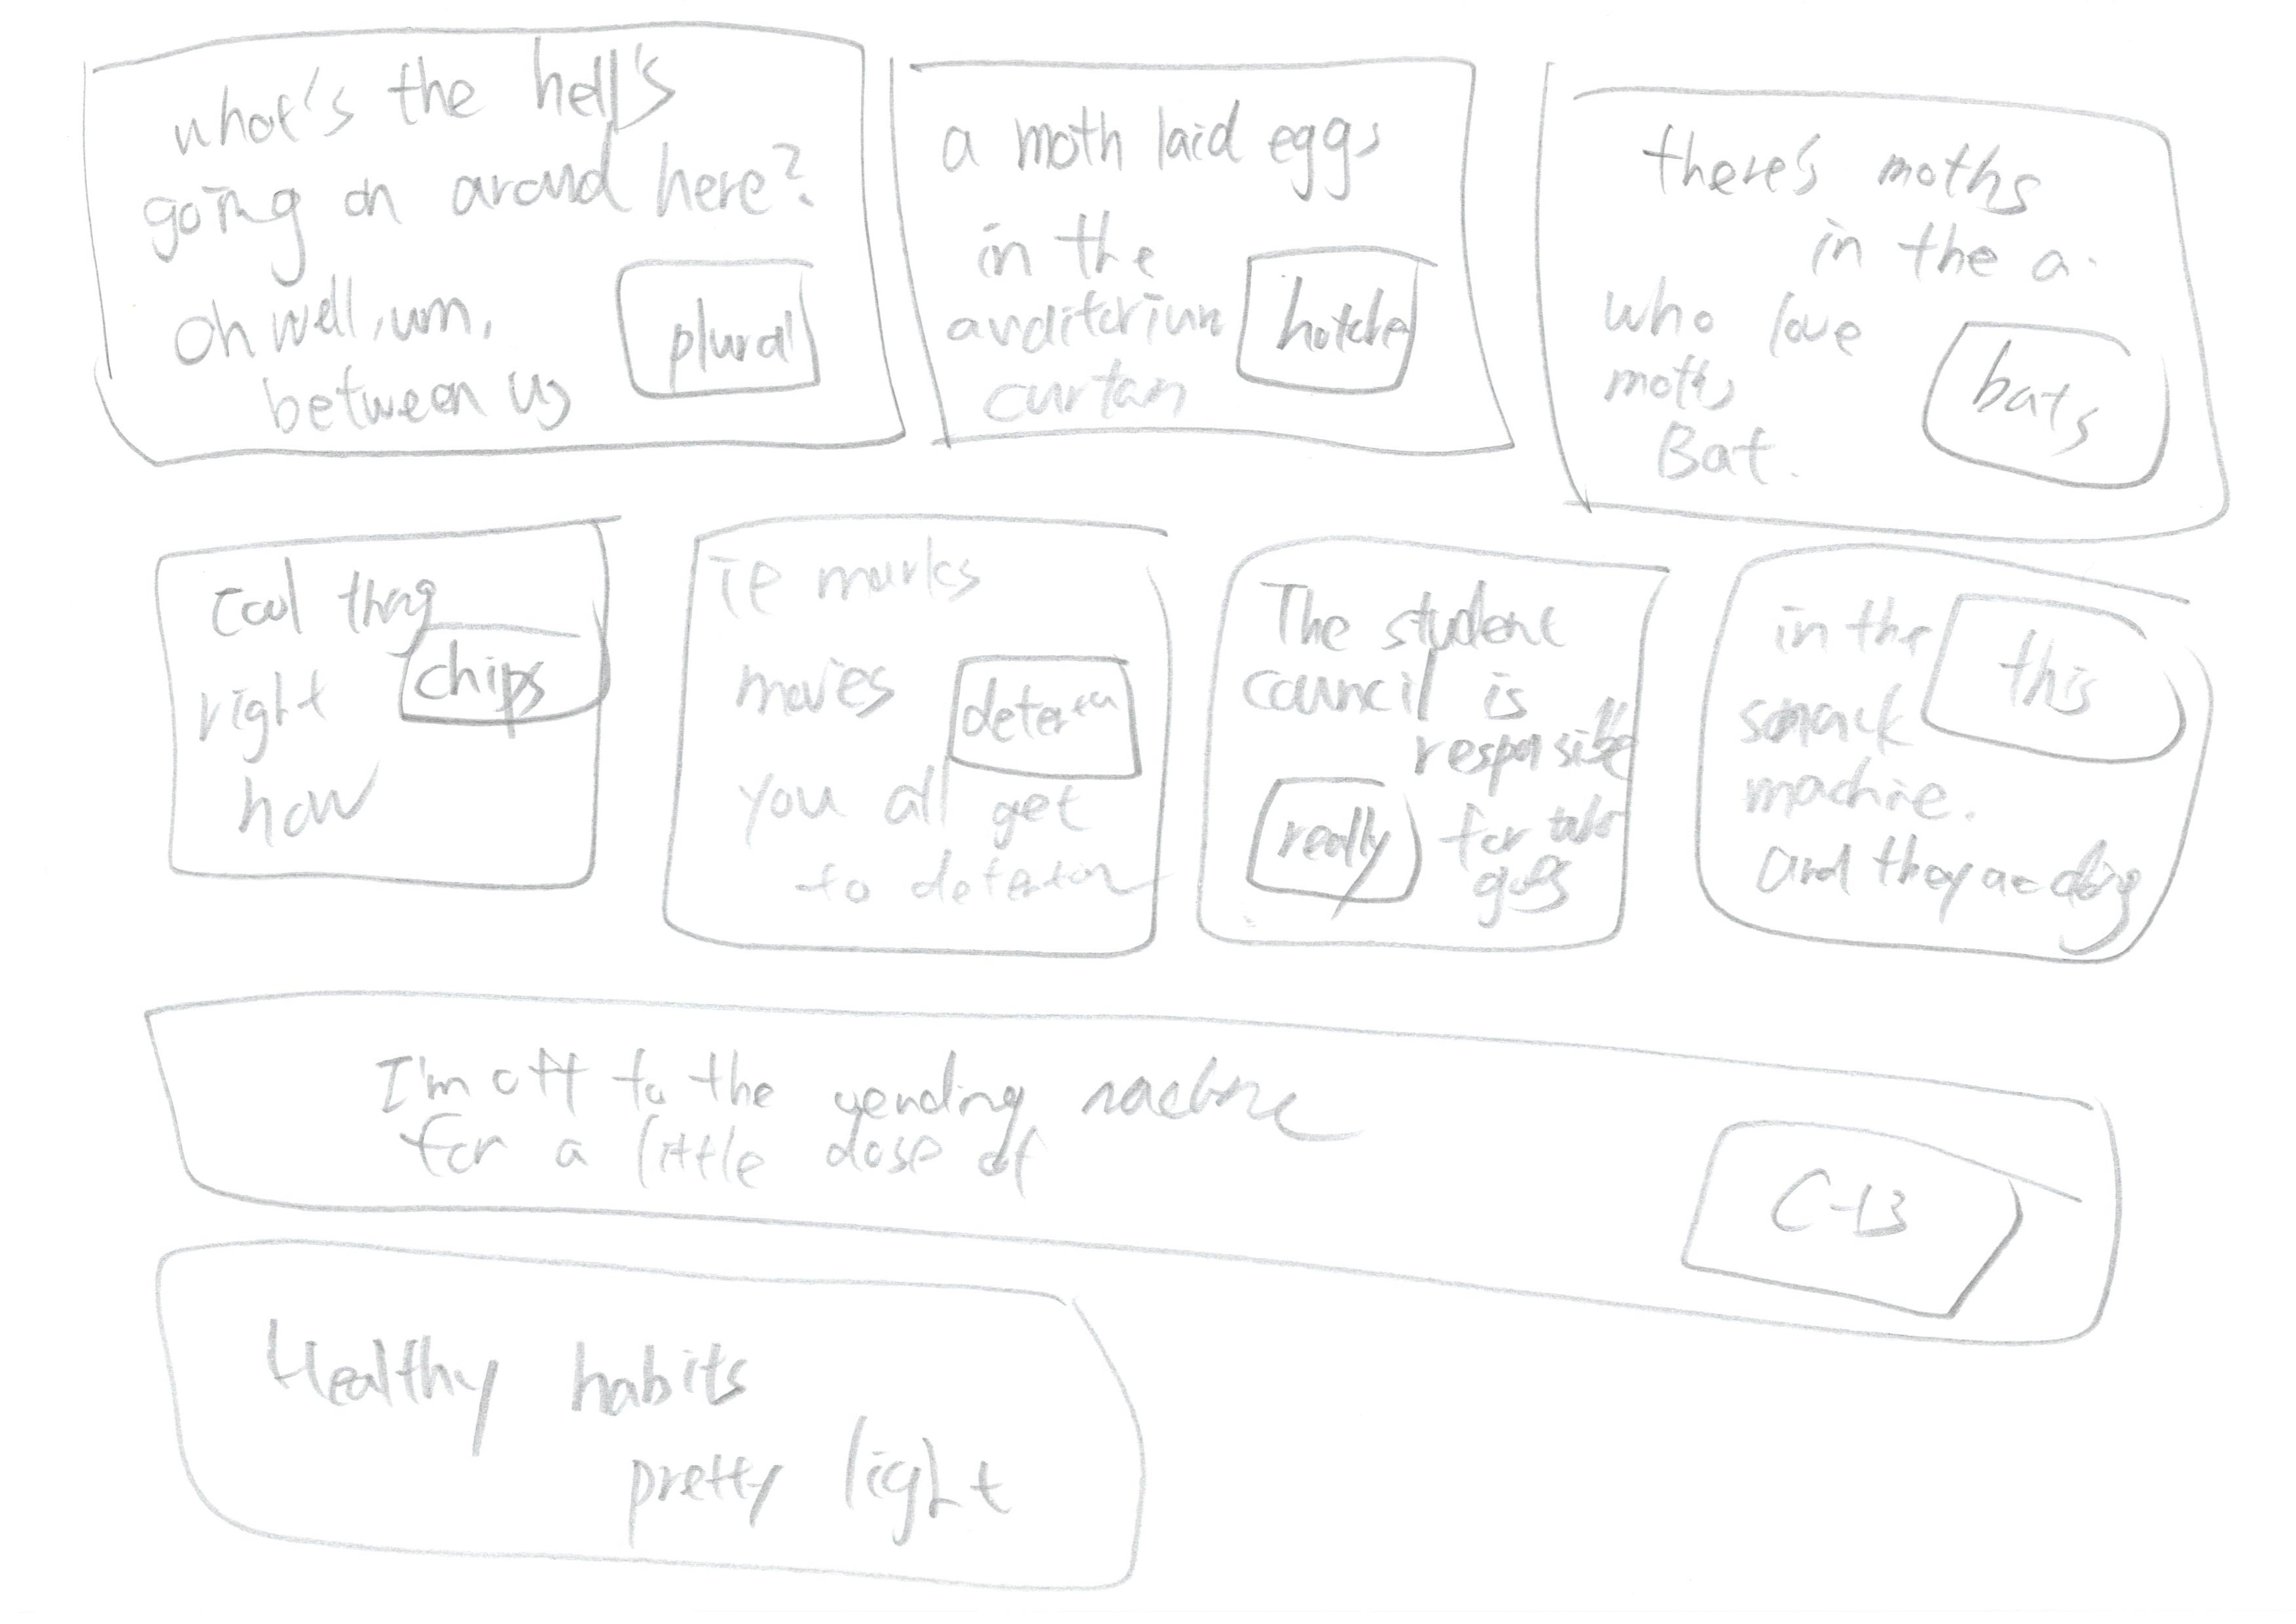btn-active: (1640, 1113, 2120, 1323), (1883, 301, 2220, 508), (1902, 580, 2219, 784), (1188, 225, 1459, 425), (591, 250, 858, 413), (359, 613, 638, 758), (1229, 759, 1457, 932), (926, 636, 1174, 789)
quadruple: (1672, 515, 2275, 1046), (642, 464, 1204, 988), (1176, 513, 1716, 1004), (104, 503, 670, 924)
row: (9, 12, 2296, 547), (9, 504, 2296, 1039), (9, 895, 2296, 1429), (42, 1214, 2296, 1624)
single: (67, 937, 2278, 1360), (67, 1200, 2278, 1624)
text: (331, 1021, 1406, 1223), (223, 1304, 1051, 1536), (139, 70, 582, 434), (1603, 132, 2108, 302), (723, 527, 941, 900), (1580, 271, 1895, 487), (1259, 564, 1603, 759), (914, 90, 1398, 207), (1744, 594, 1915, 914), (942, 211, 1211, 411), (195, 578, 387, 847), (1820, 784, 2125, 937), (1454, 742, 1595, 924)
